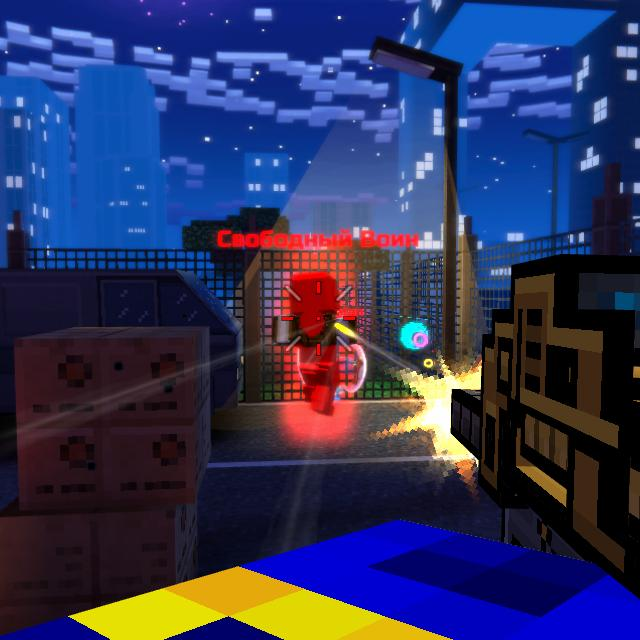Enemy: (275, 278, 360, 419)
